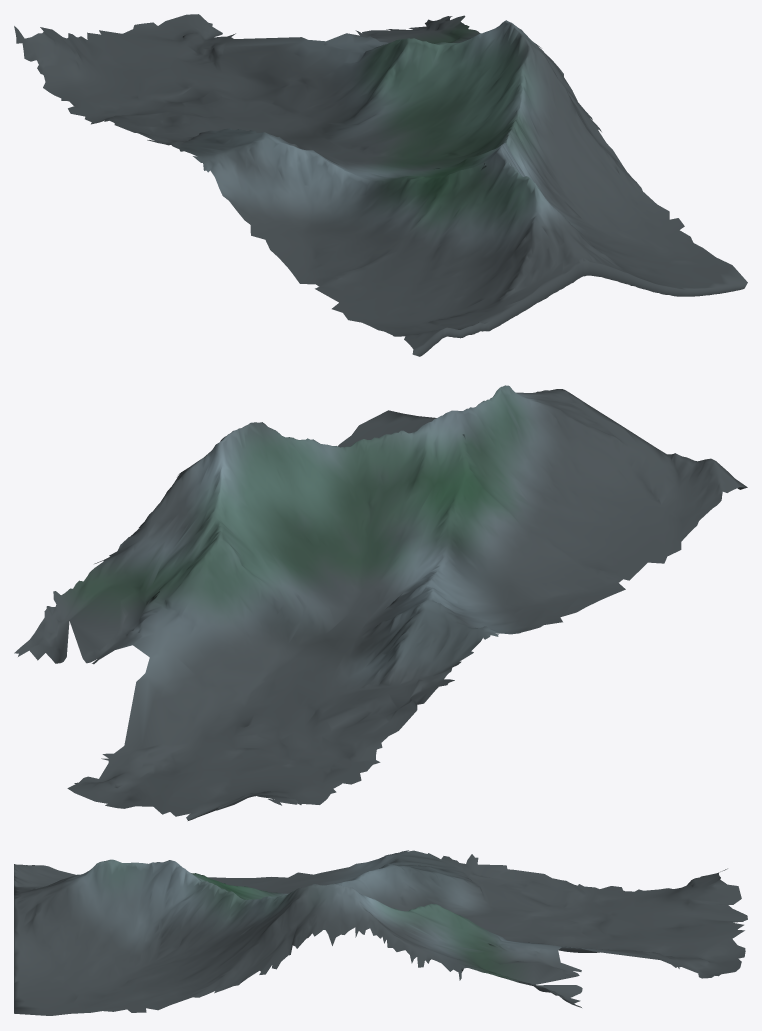
File: Mountains_Background_05.fbx
3 renders of one model, top to bottom at view 1: azimuth 30°, elevation 25°; view 2: azimuth 150°, elevation 25°; view 3: azimuth 270°, elevation 25°, orthographic. The views are drawn at different scales.
Visible parts, largest first — view 1: Mountains_Background_05; view 2: Mountains_Background_05; view 3: Mountains_Background_05.
Part boxes in pixels (<box>): Mountains_Background_05: <box>14,14,747,356</box>; Mountains_Background_05: <box>14,385,747,820</box>; Mountains_Background_05: <box>14,850,747,1015</box>.
Bounding box in the file's own units: 550 × 222 × 1168.
